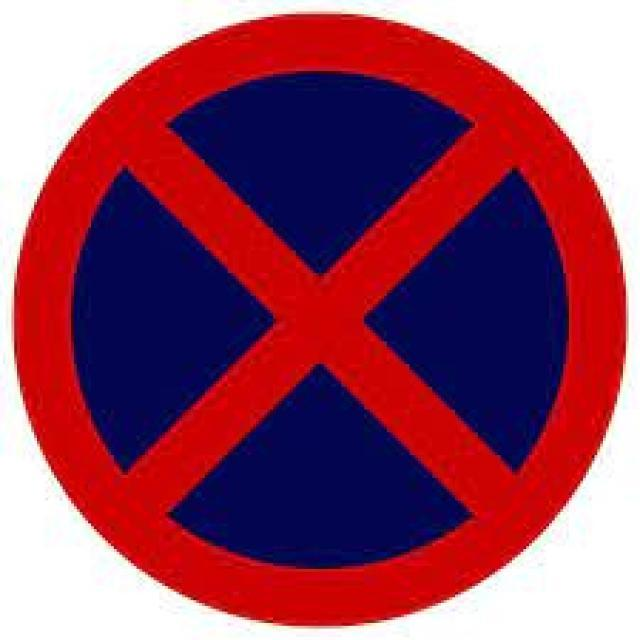no stopping or standing: (19, 13, 624, 622)
